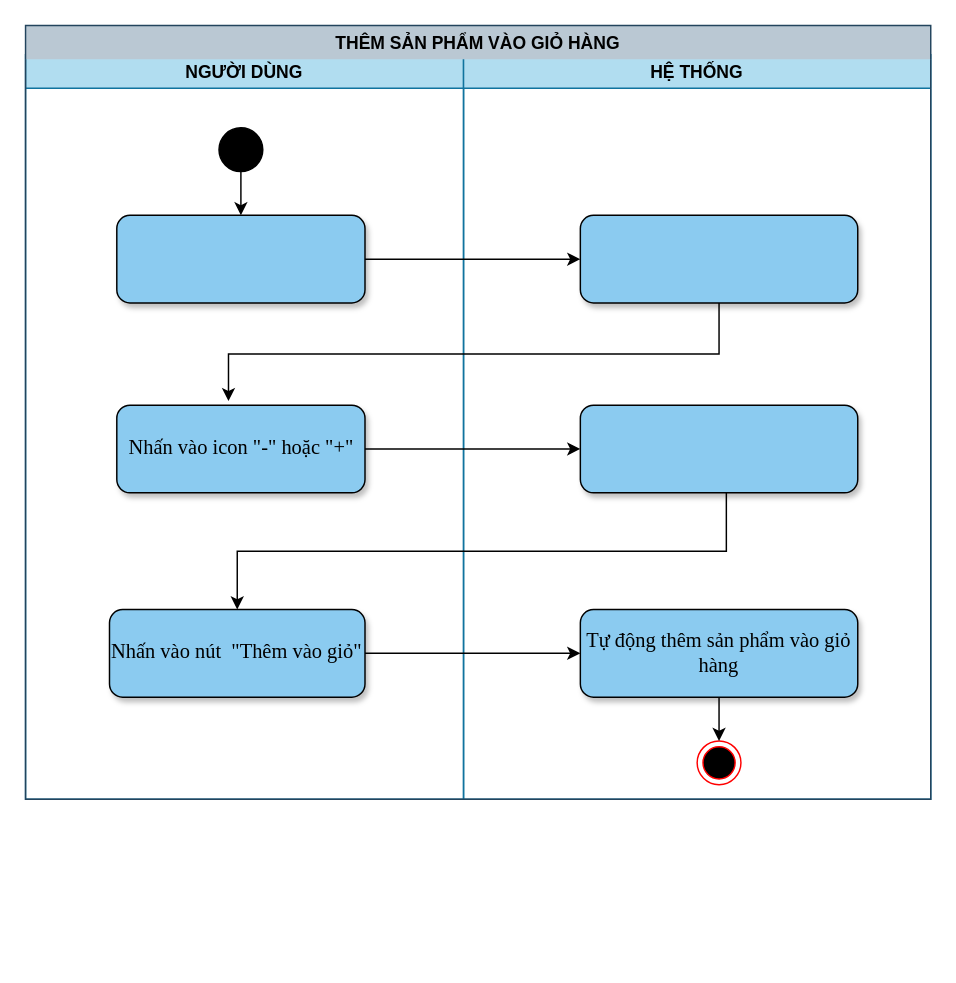
This 956x983 diagram has some shape labels left out. Here are the shapes that lost their labels. From the top down, the centre of each, then its label:
point (242, 260): Nhấn vào "Sản phẩm"
point (720, 260): Hiển thị giao diện “Chi tiết sản phẩm”
point (720, 450): Cập nhật số lượng sản phẩm
